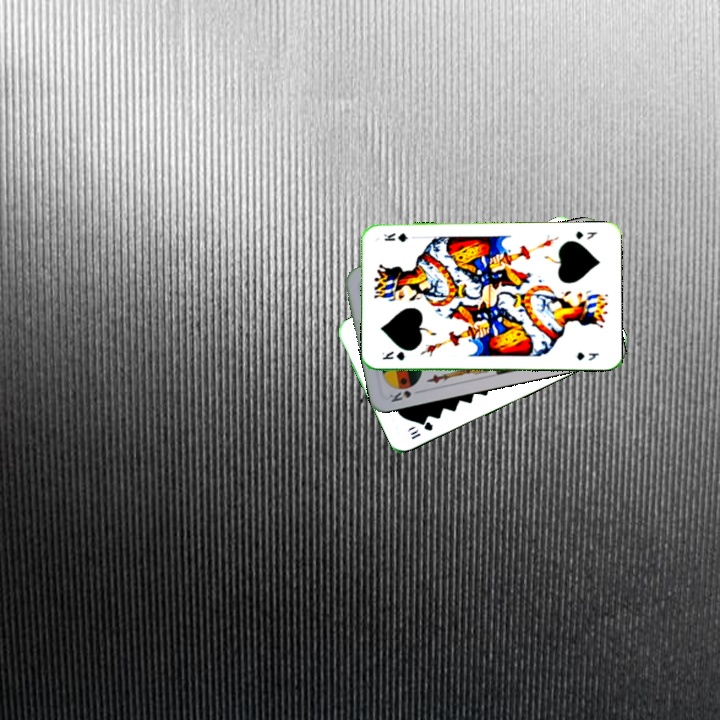G10: (407, 417, 435, 442)
GK: (379, 347, 407, 363), (572, 227, 599, 242)
SK: (385, 386, 414, 405)
